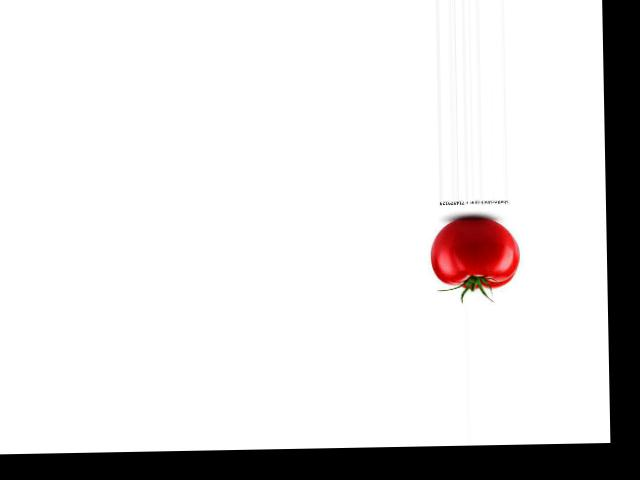tomato: (429, 217, 520, 288)
